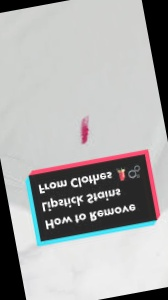lipstick: (72, 115, 98, 152)
